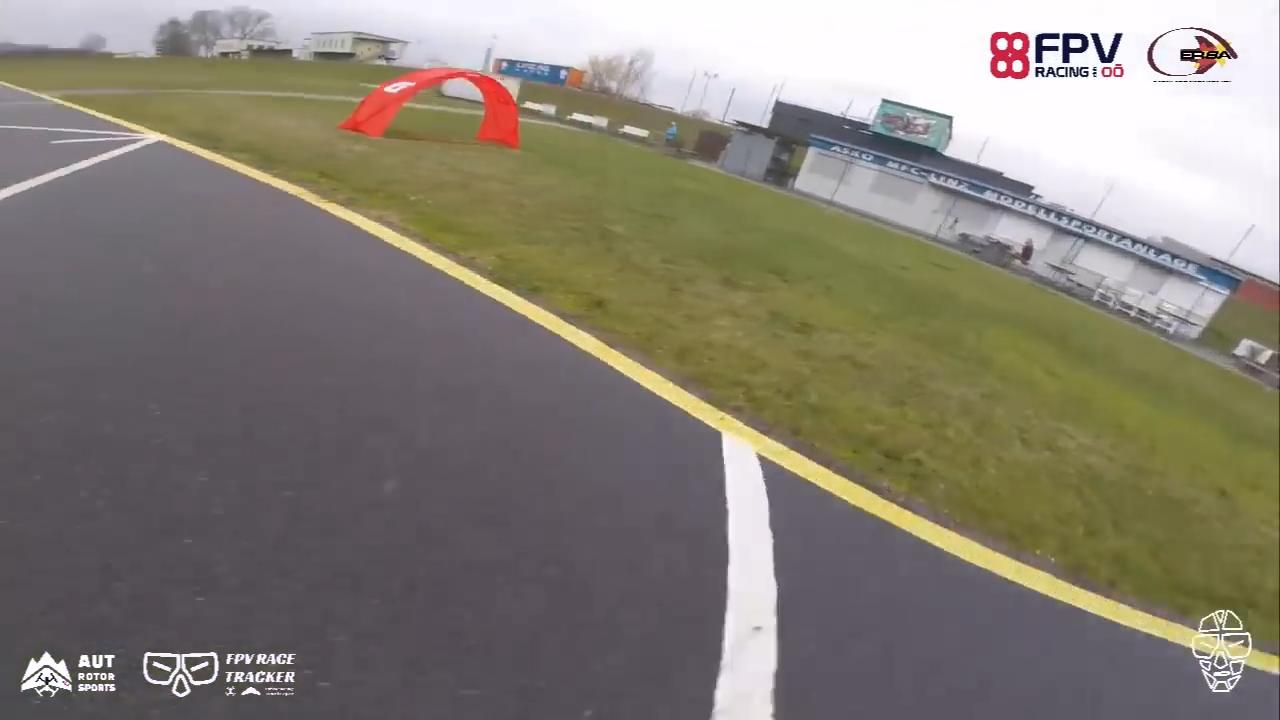gate: (339, 64, 523, 154)
